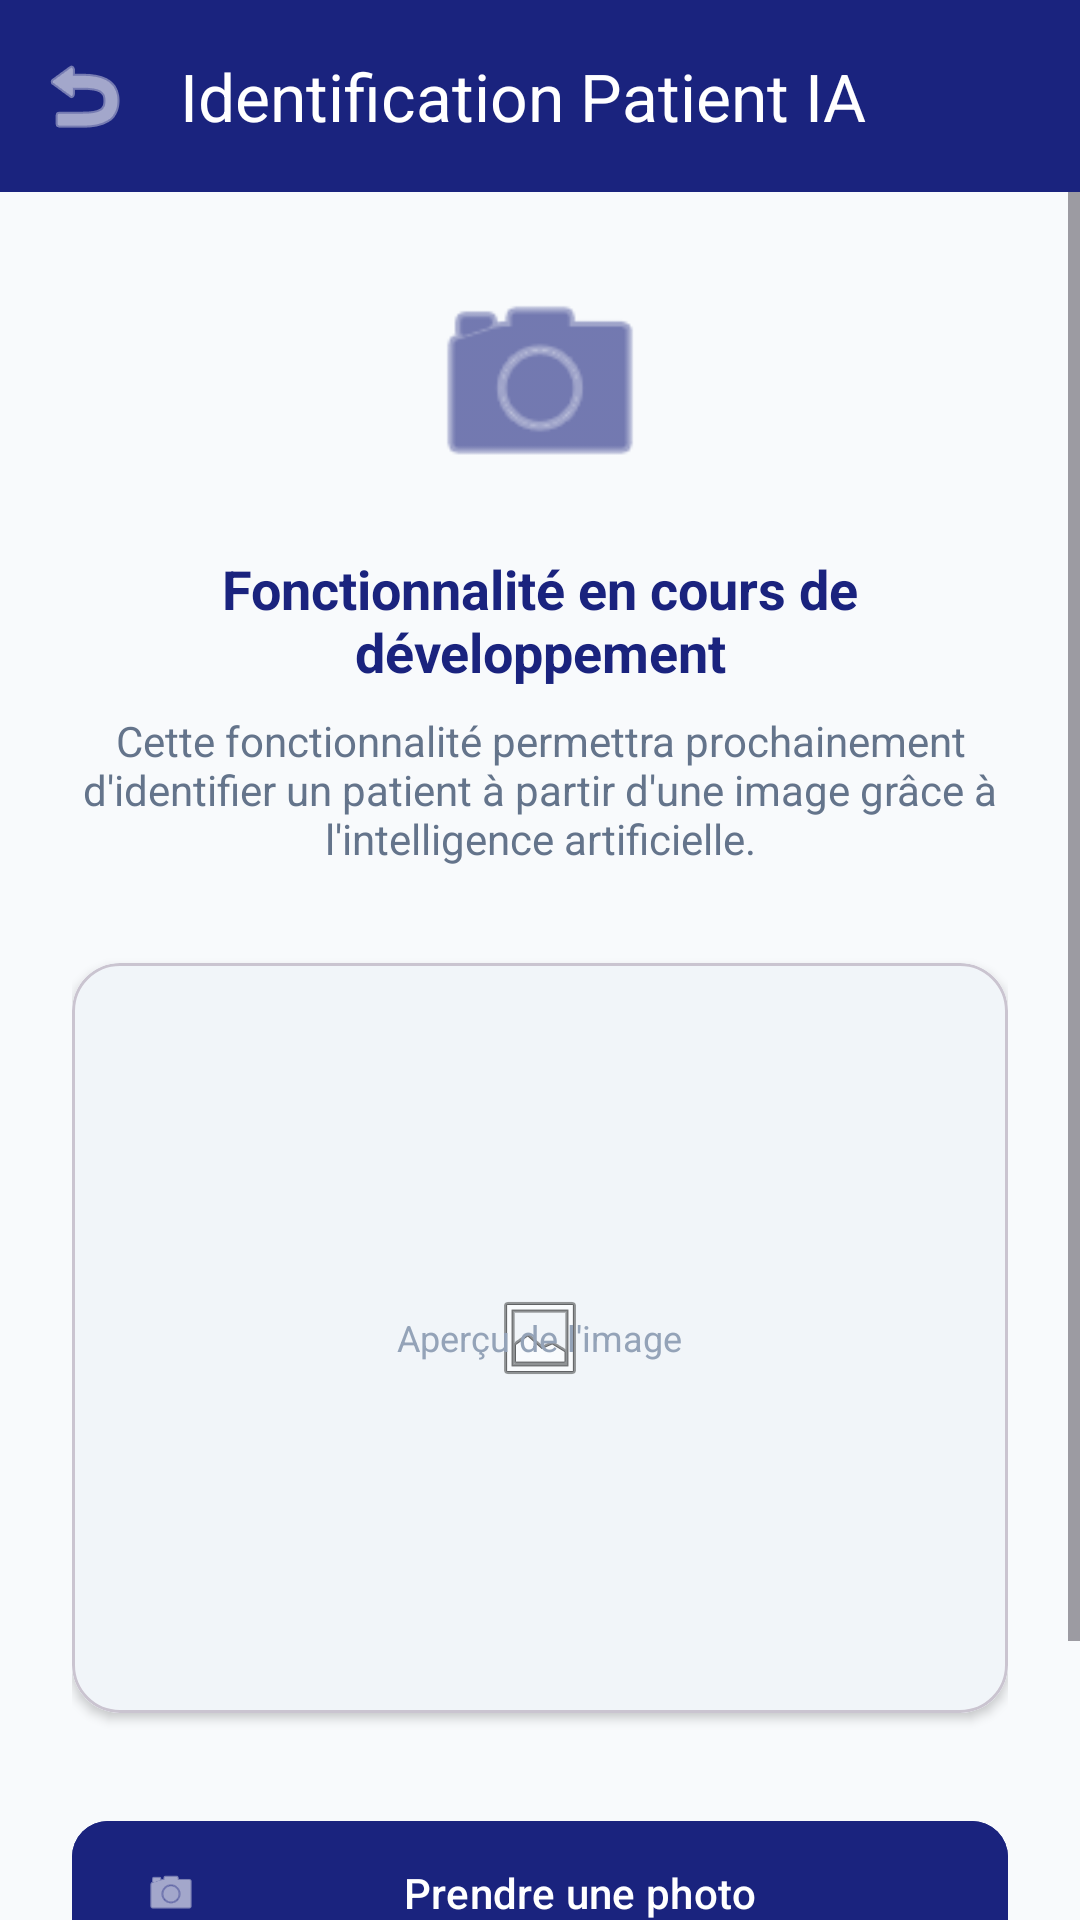

Icons on this 1080 × 1920 Android screen, each with the point to tap as (x=x, y=y):
camera: (x=540, y=380)
